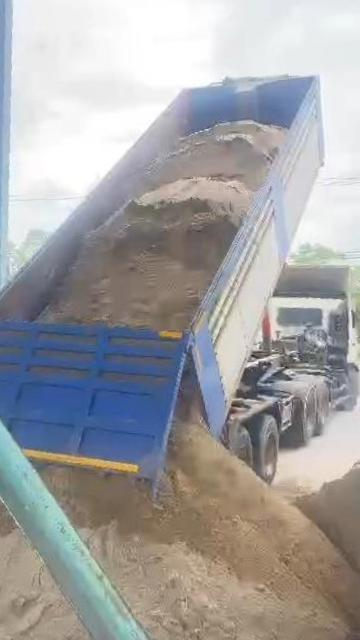sand: (44, 361, 360, 640), (41, 121, 284, 329), (0, 471, 106, 640), (274, 453, 360, 582)
